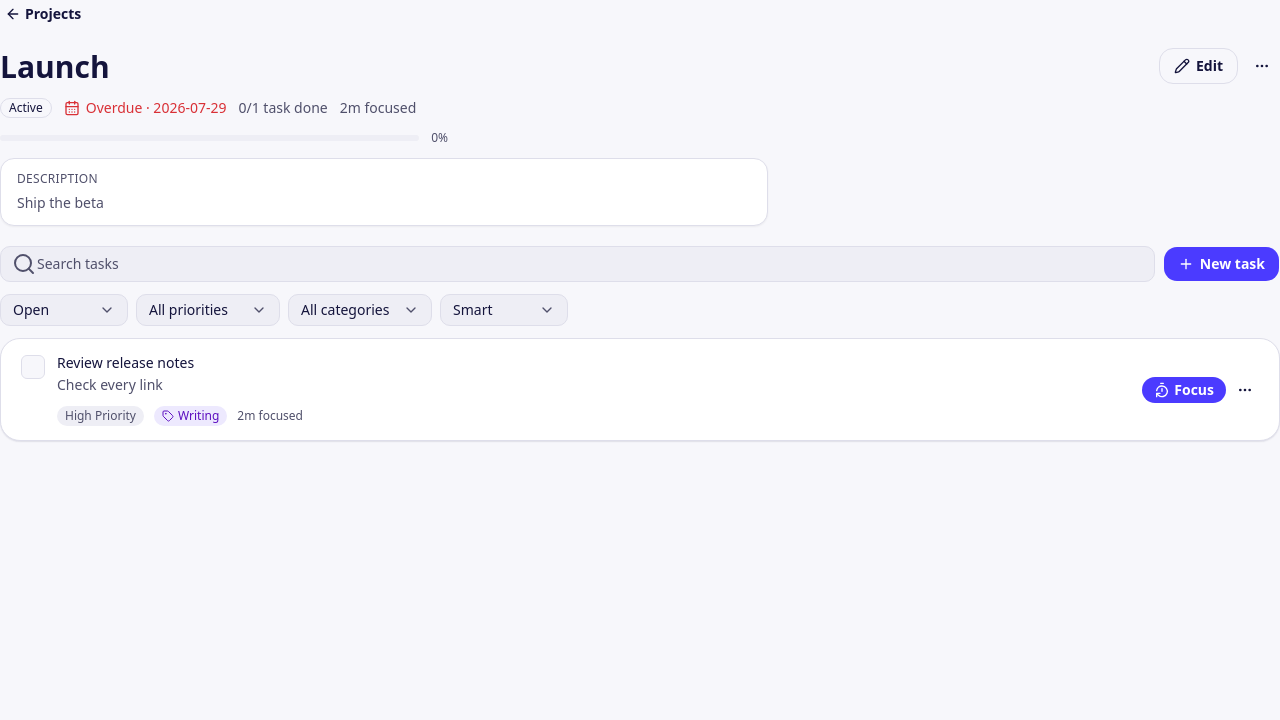
Test: ProjectDetailPage › shows the project header, progress, and its task rows
Expected: the icon "Active" is shown, [0,98,52,118]
Expected: the text "0/1 task done" is shown, [238,98,328,118]
Click the button with aria-label "open details" at (126, 362), box [57,352,1129,394]
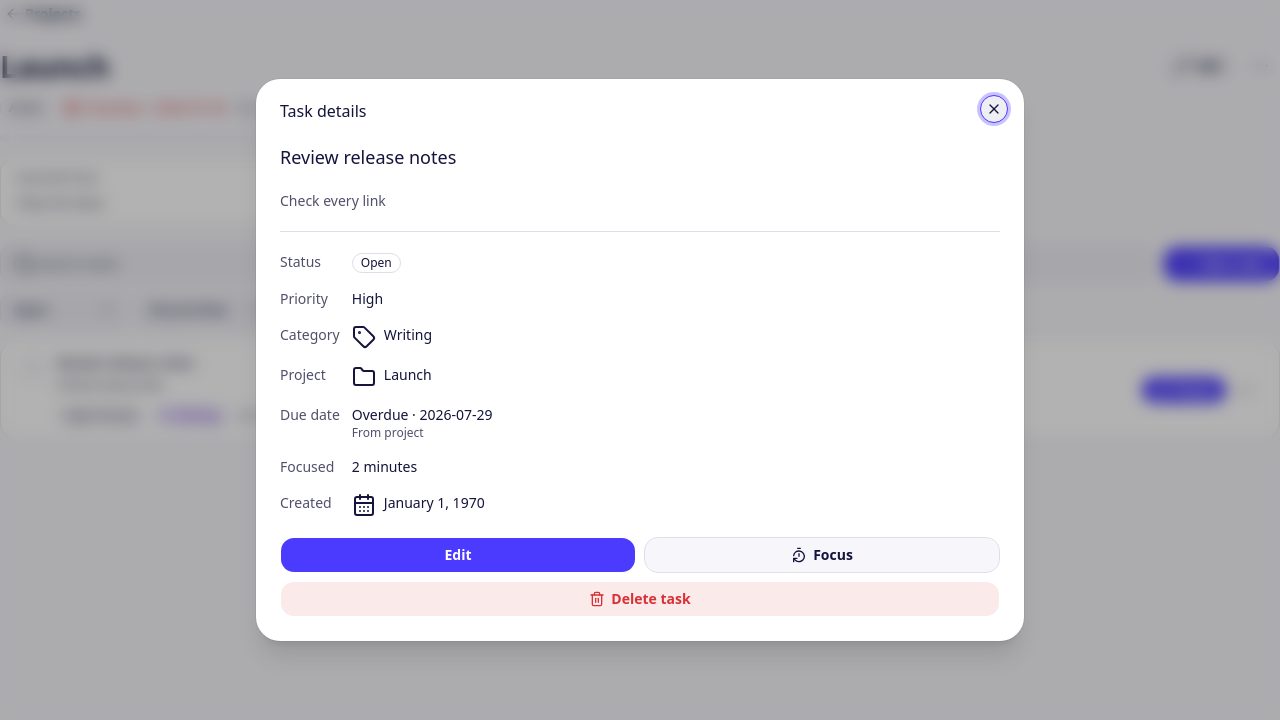
Expected: the text "Check every link" is shown, [280,191,386,210]
